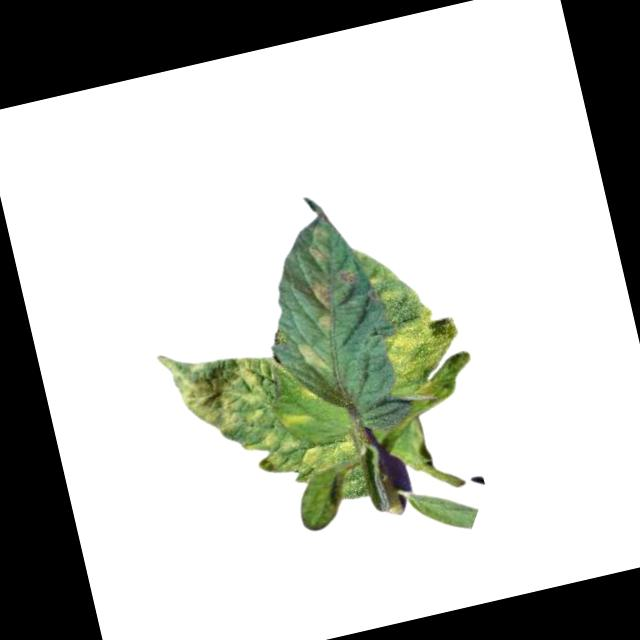Leaf_Mold: (152, 329, 291, 473), (380, 297, 477, 410), (262, 433, 361, 486), (292, 335, 328, 380), (305, 275, 335, 314), (304, 237, 334, 270), (280, 403, 313, 432), (311, 311, 336, 331)
